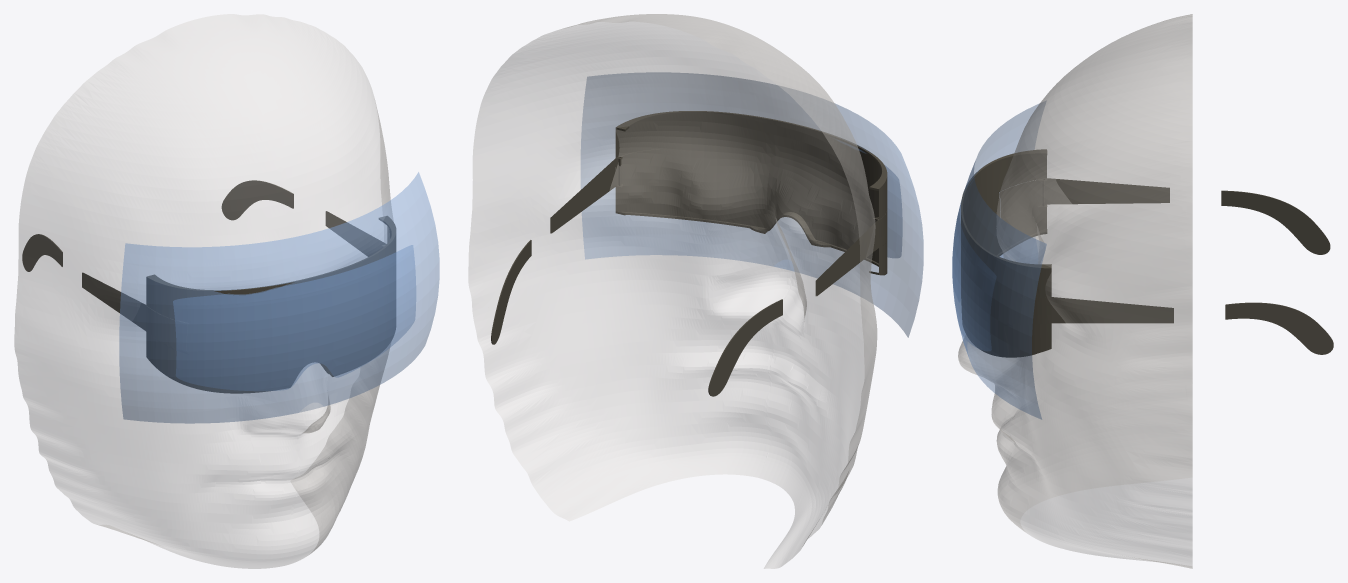
The model's file is federicacancello.glb.
The picture shows the model from 3 angles, left to right: view 1: azimuth 30°, elevation 25°; view 2: azimuth 150°, elevation 25°; view 3: azimuth 270°, elevation 25°; orthographic projection. The views are drawn at different scales.
Parts seen in each view (by area): view 1: testa_sx, lente_esterna, testa_dx, lente_interna, occhiali_036, occhiali_030, occhiali_083, occhiali_098, occhiali_102, occhiali_075, occhiali_107; view 2: testa_dx, testa_sx, lente_esterna, occhiali_030, occhiali_036, occhiali_107, occhiali_075, occhiali_098, lente_interna, occhiali_080, occhiali_083; view 3: testa_dx, testa_sx, lente_esterna, occhiali_030, occhiali_036, lente_interna, occhiali_072, occhiali_101, occhiali_109, occhiali_081, occhiali_076, occhiali_106.
Part boxes in pixels (bbox=[...]): testa_sx: bbox=[14, 19, 315, 568]; lente_esterna: bbox=[119, 172, 439, 423]; testa_dx: bbox=[200, 14, 393, 565]; lente_interna: bbox=[173, 245, 416, 391]; occhiali_036: bbox=[146, 279, 311, 392]; occhiali_030: bbox=[312, 226, 396, 374]; occhiali_083: bbox=[221, 180, 292, 220]; occhiali_098: bbox=[82, 273, 145, 330]; occhiali_102: bbox=[146, 306, 187, 350]; occhiali_075: bbox=[325, 211, 385, 256]; occhiali_107: bbox=[22, 234, 61, 271]; testa_dx: bbox=[468, 14, 791, 521]; testa_sx: bbox=[667, 19, 877, 568]; lente_esterna: bbox=[581, 72, 923, 337]; occhiali_030: bbox=[615, 113, 793, 227]; occhiali_036: bbox=[793, 127, 887, 273]; occhiali_107: bbox=[709, 299, 782, 396]; occhiali_075: bbox=[551, 159, 616, 233]; occhiali_098: bbox=[816, 221, 878, 296]; lente_interna: bbox=[859, 149, 902, 257]; occhiali_080: bbox=[616, 149, 660, 185]; occhiali_083: bbox=[492, 240, 531, 344]; testa_dx: bbox=[958, 36, 1192, 568]; testa_sx: bbox=[958, 14, 1192, 520]; lente_esterna: bbox=[952, 101, 1046, 419]; occhiali_030: bbox=[961, 214, 1051, 355]; occhiali_036: bbox=[963, 155, 1046, 255]; lente_interna: bbox=[952, 202, 996, 351]; occhiali_072: bbox=[1051, 297, 1173, 323]; occhiali_101: bbox=[1048, 179, 1169, 204]; occhiali_109: bbox=[1221, 191, 1330, 254]; occhiali_081: bbox=[1225, 303, 1333, 354]; occhiali_076: bbox=[1003, 294, 1051, 324]; occhiali_106: bbox=[1000, 180, 1047, 218].
Size of what is drawn, in the model's own units: 0.21 by 0.2625 by 0.1868.
